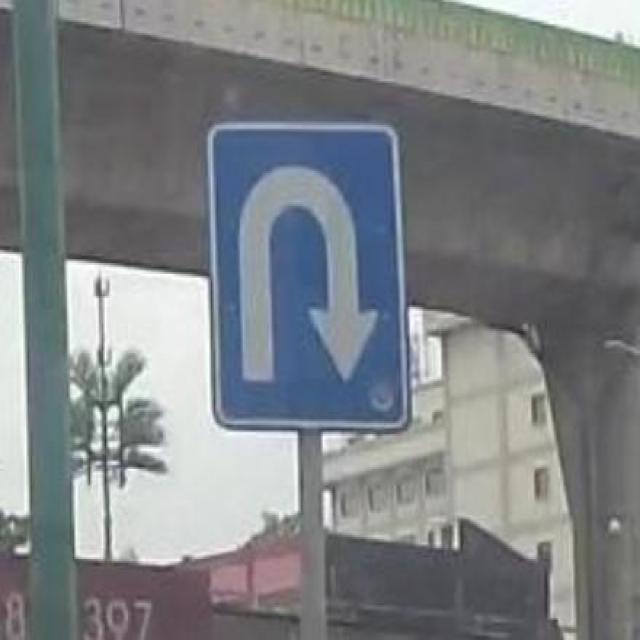traffic sign: (204, 124, 414, 431)
